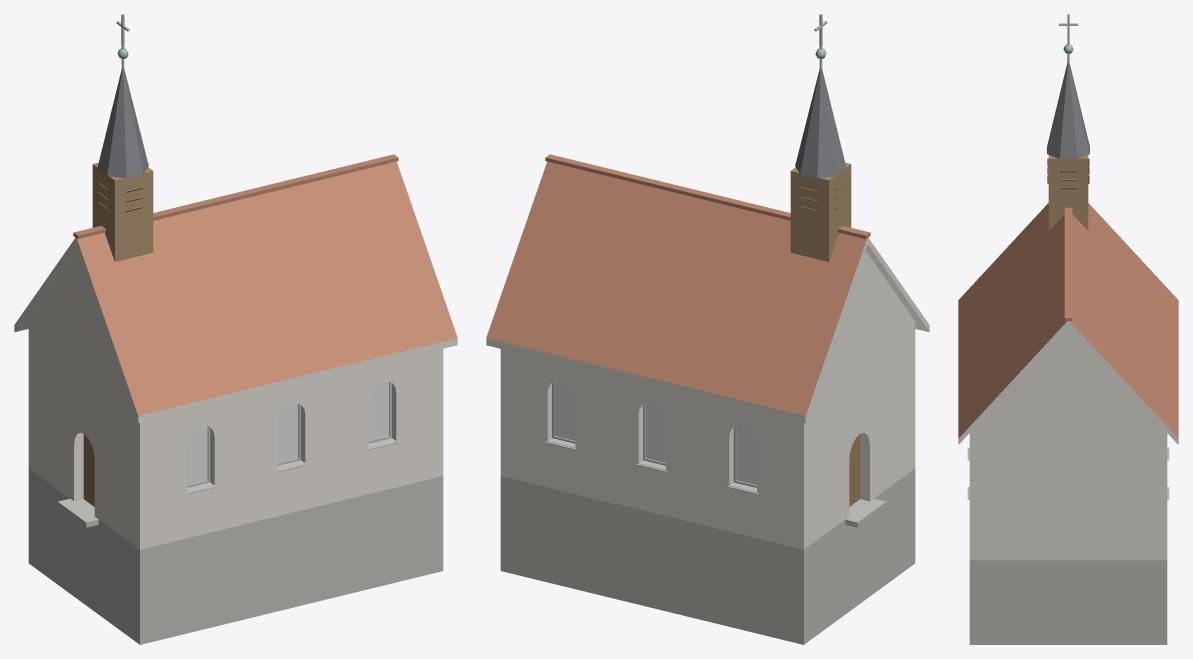
File: chapel_m.glb
3 renders of one model, left to right at view 1: azimuth 30°, elevation 25°; view 2: azimuth 150°, elevation 25°; view 3: azimuth 270°, elevation 25°, orthographic. The views are drawn at different scales.
Parts seen in each view (by area): view 1: chapel_m; view 2: chapel_m; view 3: chapel_m.
Part boxes in pixels (x1=…): chapel_m: x1=14, y1=14, x2=457, y2=644; chapel_m: x1=486, y1=14, x2=929, y2=644; chapel_m: x1=958, y1=14, x2=1178, y2=644.
Bounding box in the file's own units: 11.77 × 20.12 × 7.8.
